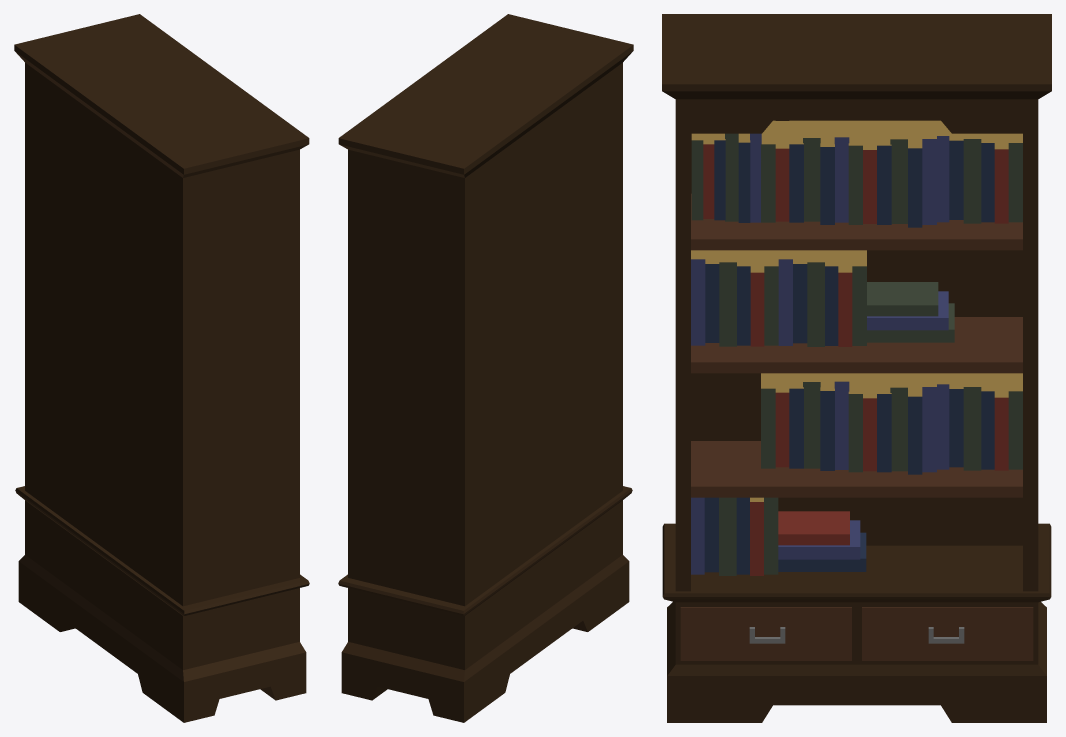
File: BookshelfWithBooks.fbx
3 renders of one model, left to right at view 1: azimuth 30°, elevation 25°; view 2: azimuth 150°, elevation 25°; view 3: azimuth 270°, elevation 25°, orthographic. The views are drawn at different scales.
Parts seen in each view (by area): view 1: Cube.012; view 2: Cube.012; view 3: Cube.012, Cube.011.
Boxes of the visible parts, x1=… form: Cube.012: x1=14, y1=14, x2=309, y2=722; Cube.012: x1=338, y1=14, x2=633, y2=722; Cube.012: x1=662, y1=14, x2=1051, y2=722; Cube.011: x1=691, y1=120, x2=1022, y2=575.
Bounding box in the file's own units: 47.87 × 200 × 111.
